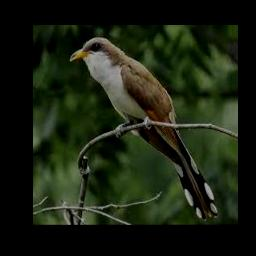Cuckoo: (71, 37, 218, 221)
